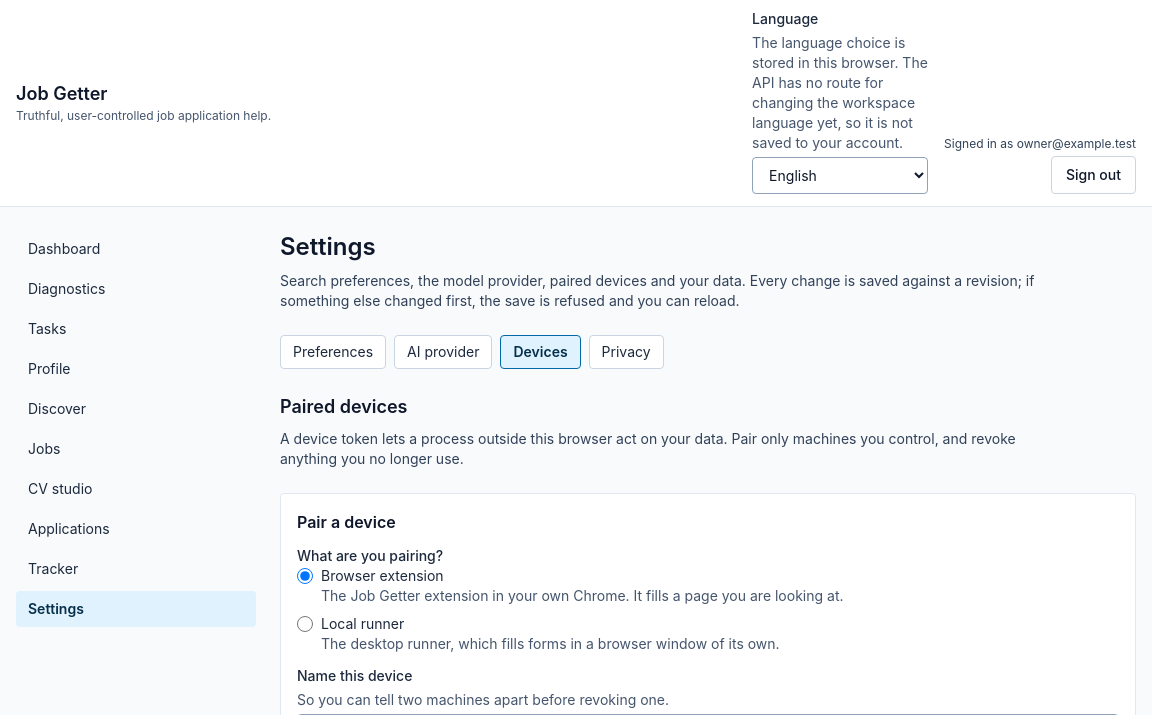
device pairing › pairs a local runner when that is chosen, with the runner’s instructions
Expected: the heading "Paired devices" is shown, [280,396,408,417]
Click the radio button labelled "Local runner".
click(305, 624)  # box [297,616,313,632]
(page scrolled)
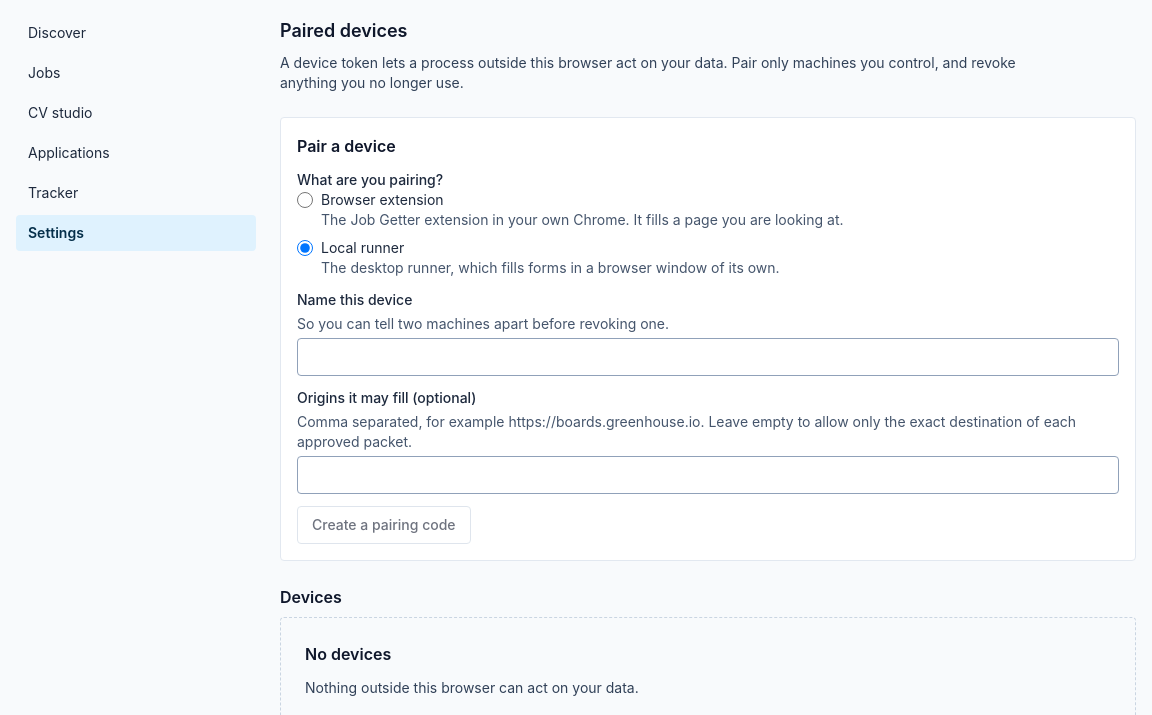
Type "Work laptop" into the field labelled "Name this device".
click(708, 357); type("Work laptop")  # box [297,338,1119,376]
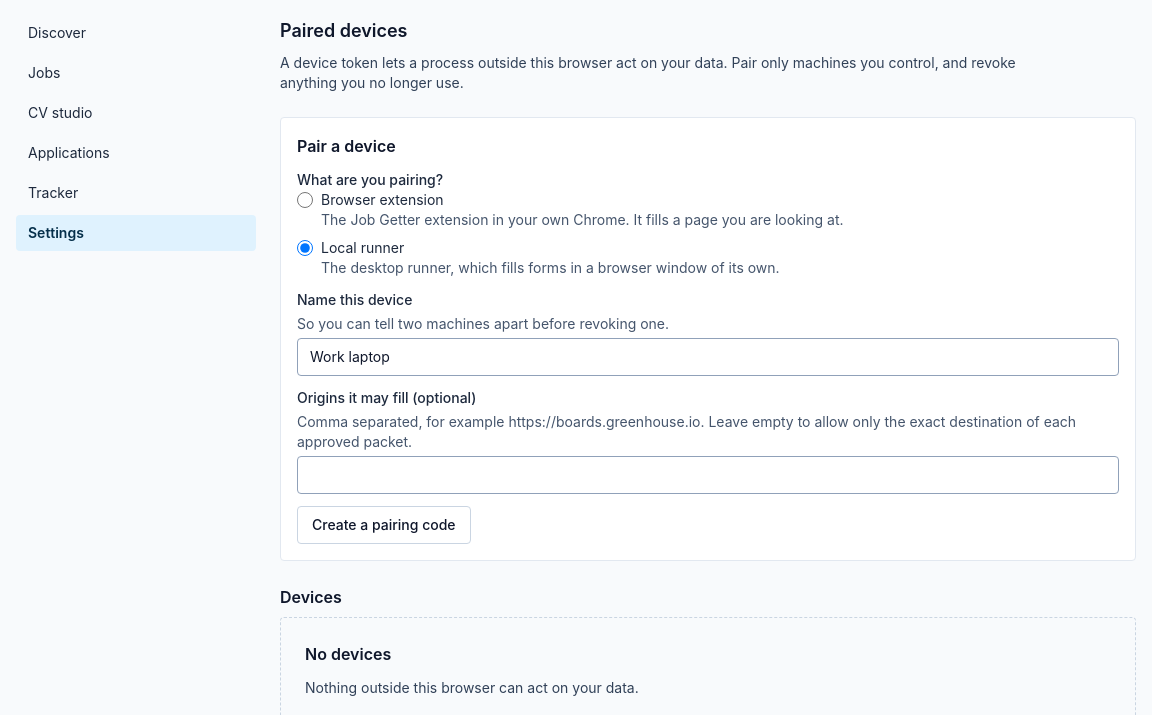
Click the button "Create a pairing code".
click(384, 525)  # box [297,506,471,544]
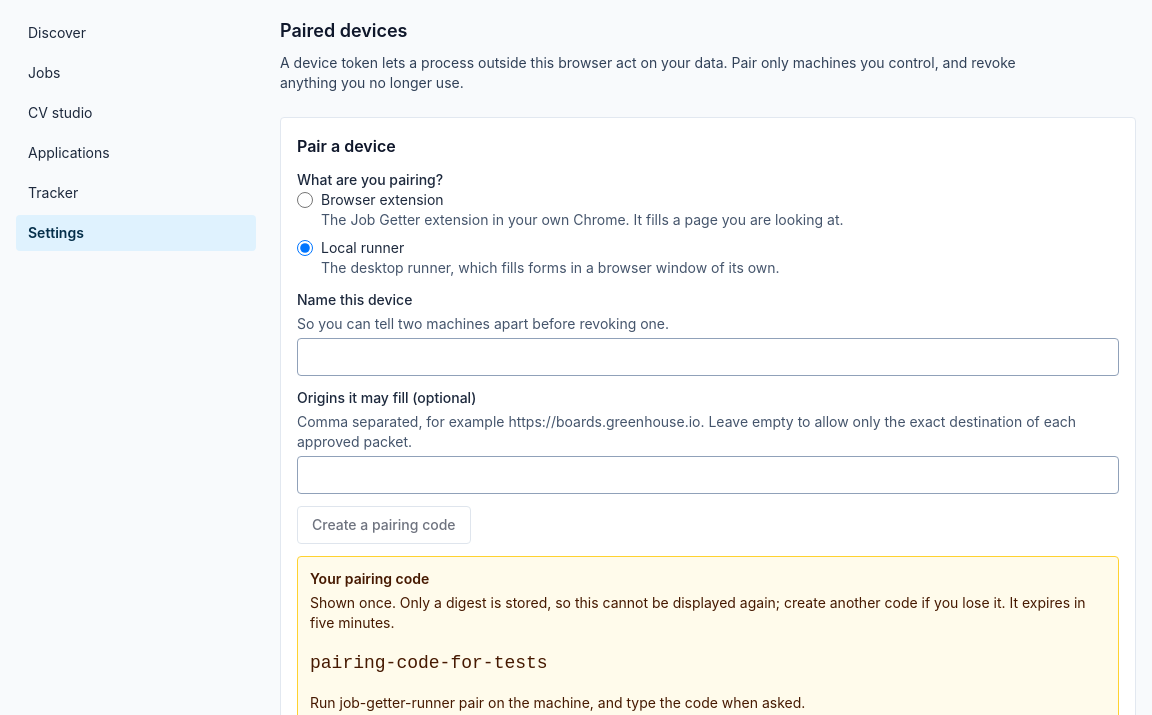
Expected: the text "pairing-code-for-tests" is shown, [310,653,548,673]
Expected: the text with test id "pairing-instructions" shows "job-getter-runner pair", [310,694,805,711]
